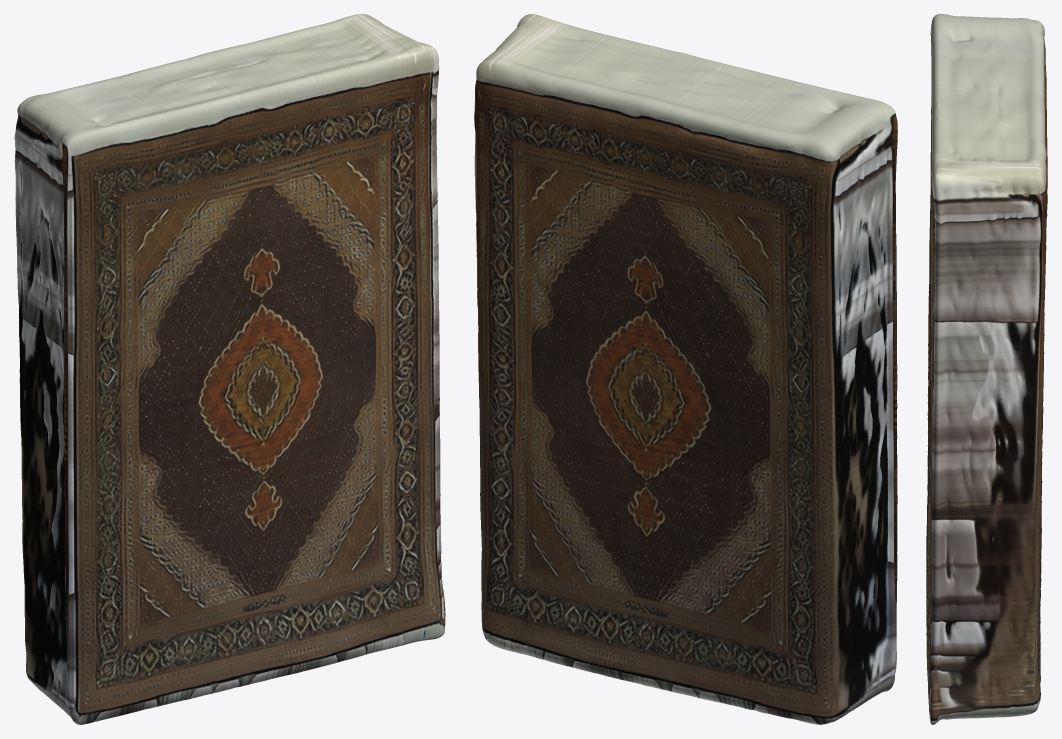
File: kfl-2163.glb
The picture shows the model from 3 angles, left to right: view 1: azimuth 30°, elevation 25°; view 2: azimuth 150°, elevation 25°; view 3: azimuth 270°, elevation 25°; orthographic projection. The views are drawn at different scales.
Visible parts, largest first — view 1: kfl-2163; view 2: kfl-2163; view 3: kfl-2163.
Part boxes in pixels (x1,y1,x2,y2): kfl-2163: (14, 14, 445, 724); kfl-2163: (474, 14, 897, 724); kfl-2163: (926, 14, 1047, 724).
Size of the model in its own units: 0.6662 by 0.9962 by 0.1986.
Materials: 1 (1 with a texture image).
